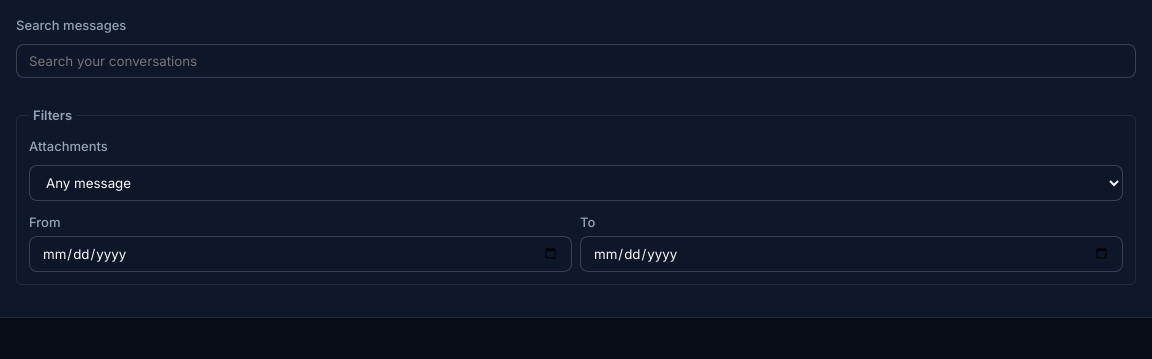
Test case: results › reports a failed search as an alert
Step 1. Type "deploy" into the search field with test id "search-input" → (576, 60), box 16,44 -> 1136,78
Wait 300 ms
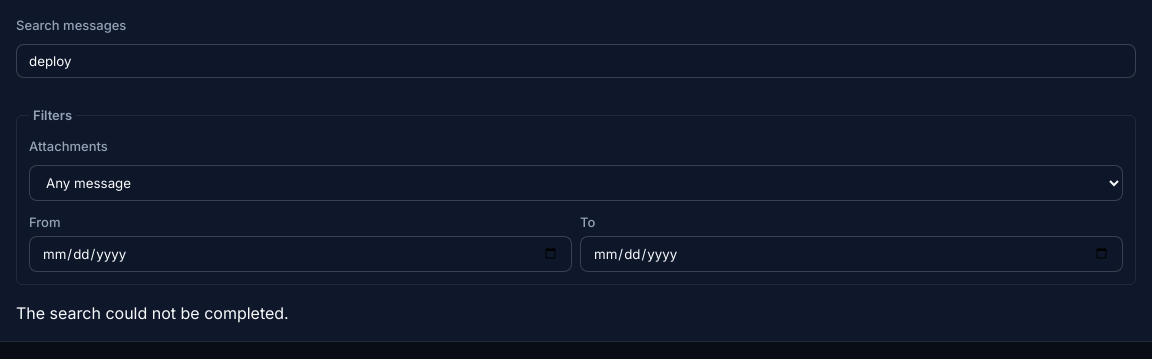
Result: the message shows "could not be completed" at 16,303 -> 289,323
